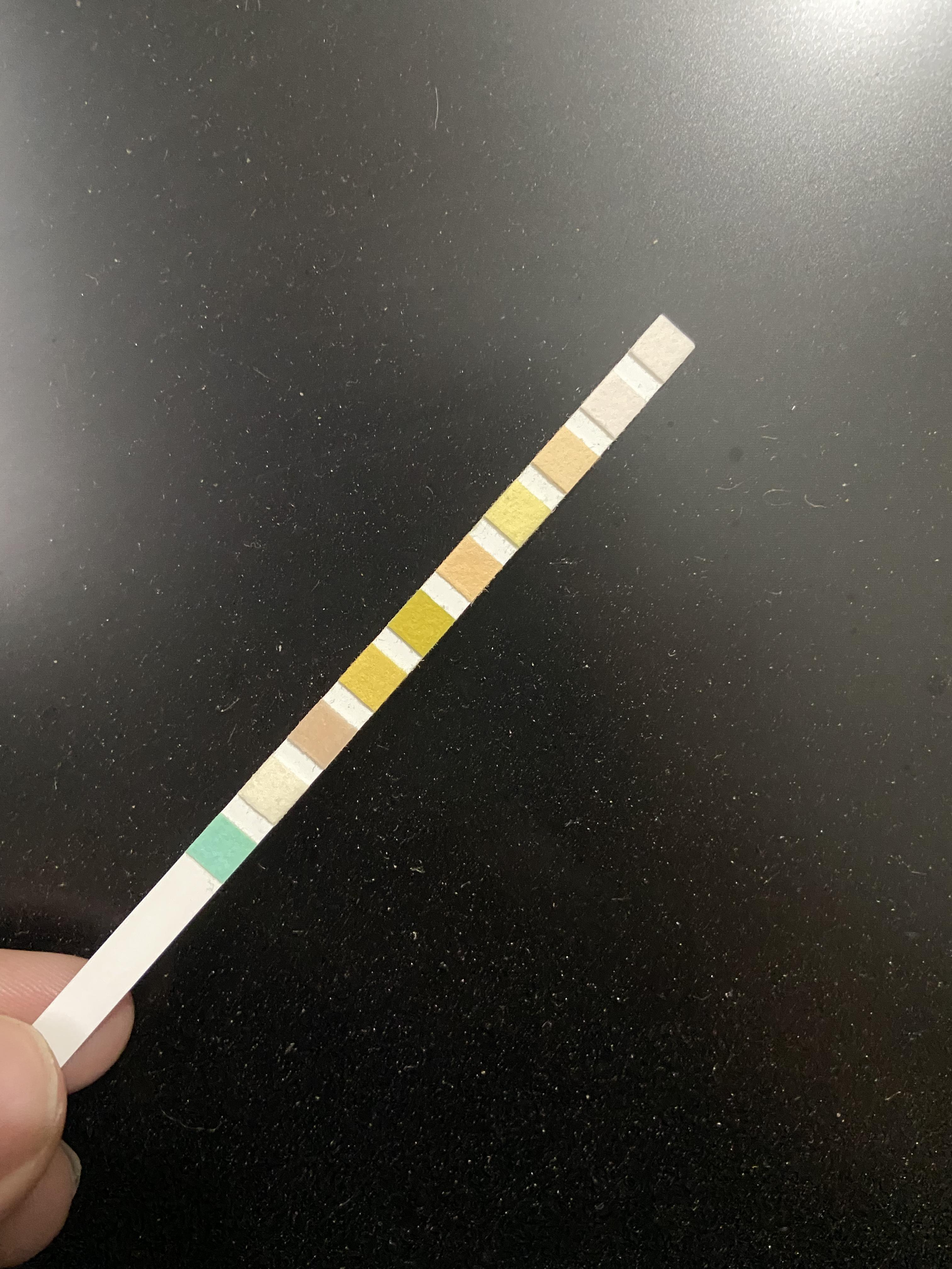Bilirubin: (254, 773, 293, 808)
Blood: (403, 606, 439, 638)
Glucose: (203, 831, 240, 864)
Ketone: (305, 716, 342, 750)
Leukocytes: (644, 332, 682, 363)
Nitrite: (597, 386, 631, 421)
Protein: (499, 497, 536, 528)
SpGravity: (356, 661, 390, 695)
Urobilinogen: (549, 443, 583, 475)
pH: (451, 552, 487, 585)
strip: (33, 314, 695, 1068)
